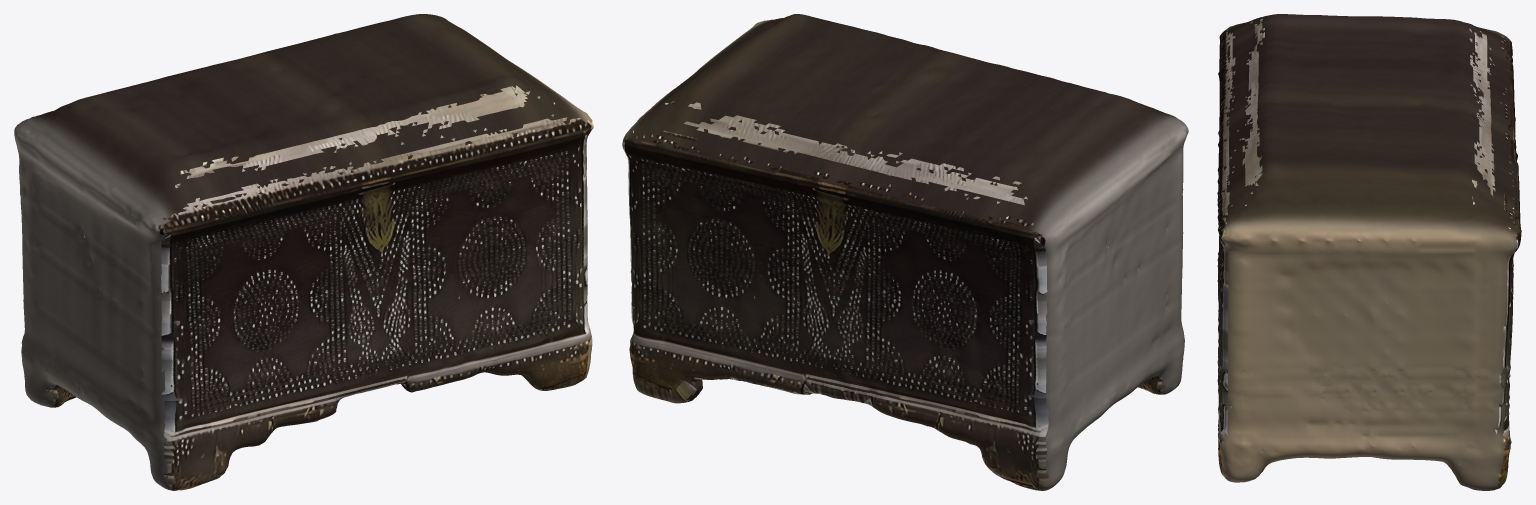
Rendered from kfl-2300.glb.
3 renders of one model, left to right at view 1: azimuth 30°, elevation 25°; view 2: azimuth 150°, elevation 25°; view 3: azimuth 270°, elevation 25°, orthographic. The views are drawn at different scales.
Parts seen in each view (by area): view 1: kfl-2300; view 2: kfl-2300; view 3: kfl-2300.
Part boxes in pixels (<box>): kfl-2300: <box>14,14,593,490</box>; kfl-2300: <box>622,14,1188,490</box>; kfl-2300: <box>1217,14,1521,490</box>.
Size of the model in its own units: 0.9924 by 0.6778 by 0.6095.
Materials: 4 (4 with a texture image).
